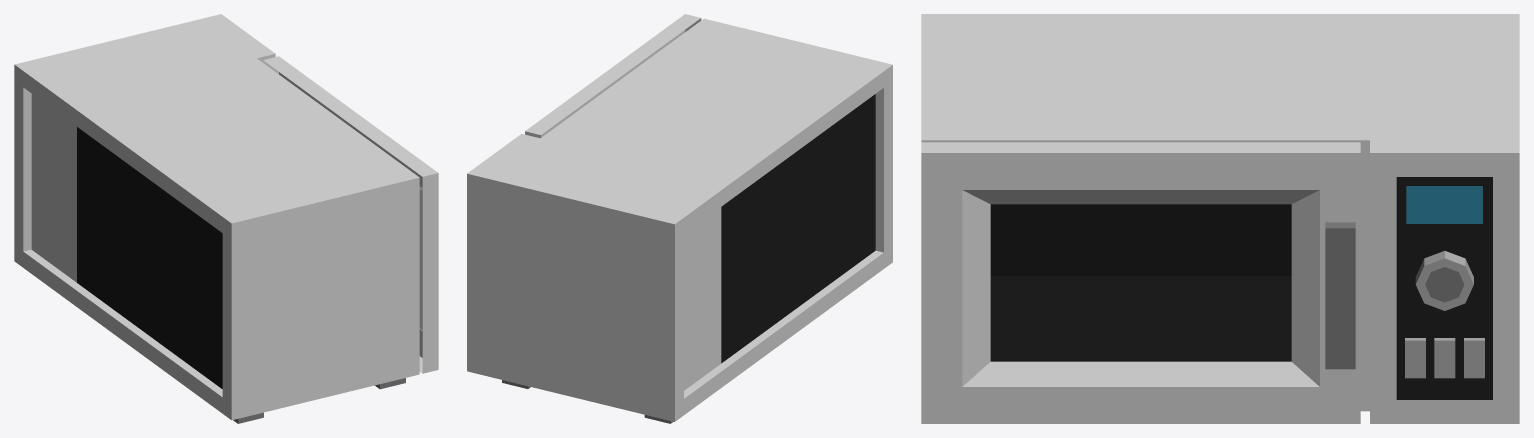
File: SM_kitchenMicrowave.glb
The picture shows the model from 3 angles, left to right: view 1: azimuth 30°, elevation 25°; view 2: azimuth 150°, elevation 25°; view 3: azimuth 270°, elevation 25°; orthographic projection. The views are drawn at different scales.
Visible parts, largest first — view 1: SM_kitchenMicrowave; view 2: SM_kitchenMicrowave; view 3: SM_kitchenMicrowave.
Boxes of the visible parts, <box> form: SM_kitchenMicrowave: <box>14,14,438,423</box>; SM_kitchenMicrowave: <box>467,14,892,423</box>; SM_kitchenMicrowave: <box>921,14,1519,423</box>.
Bounding box in the file's own units: 0.4308 × 0.3901 × 0.7364.
2 materials, 1 textured.
